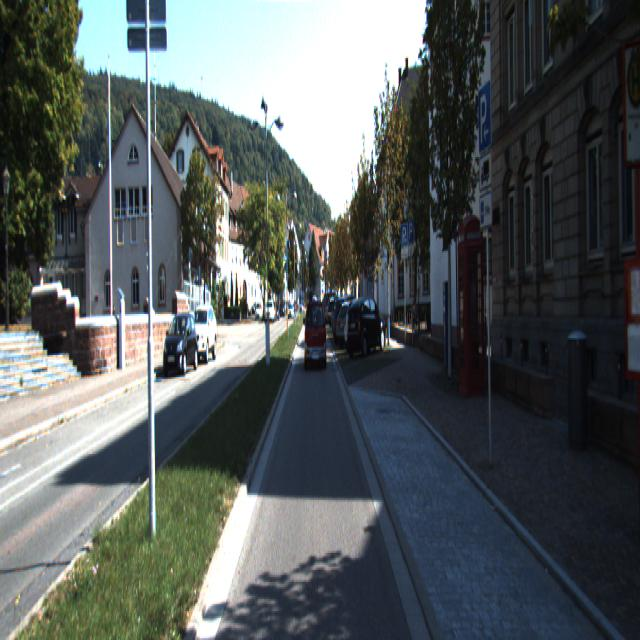Car: (346, 296, 387, 359), (163, 314, 200, 375), (345, 300, 384, 357), (335, 301, 373, 349), (187, 308, 218, 366), (305, 301, 327, 371)
